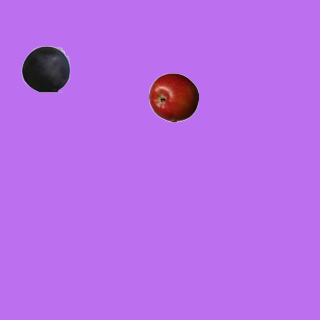Apple Braeburn: (148, 72, 198, 122)
Grape Blue: (20, 43, 70, 93)
